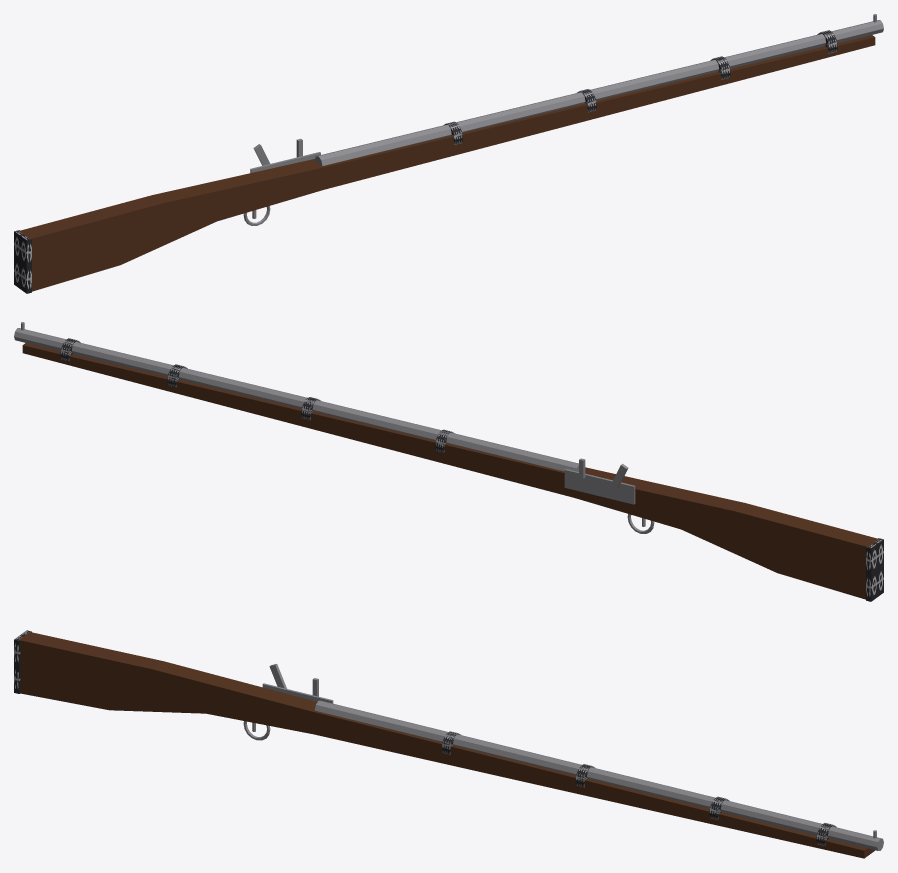
File: flintlock_rifle.glb
3 renders of one model, top to bottom at view 1: azimuth 30°, elevation 25°; view 2: azimuth 150°, elevation 25°; view 3: azimuth 330°, elevation 25°, orthographic.
Visible parts, largest first — view 1: Flintlock_Rifle; view 2: Flintlock_Rifle; view 3: Flintlock_Rifle.
Part boxes in pixels (<box>): Flintlock_Rifle: <box>14,14,883,293</box>; Flintlock_Rifle: <box>14,322,883,601</box>; Flintlock_Rifle: <box>14,630,883,858</box>.
Bounding box in the file's own units: 1.61 × 0.1399 × 0.0498.
3 materials, 2 textured.
